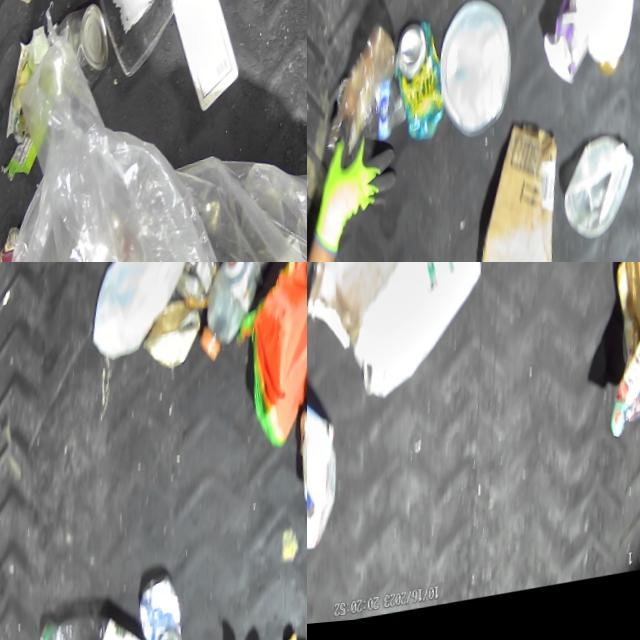can: (393, 1, 461, 153), (46, 5, 120, 100), (134, 567, 205, 640), (173, 262, 225, 321)
milk_jug: (342, 262, 503, 410), (77, 262, 215, 371), (156, 0, 257, 123)
plastic_bottle: (186, 262, 304, 377), (26, 588, 190, 640)
